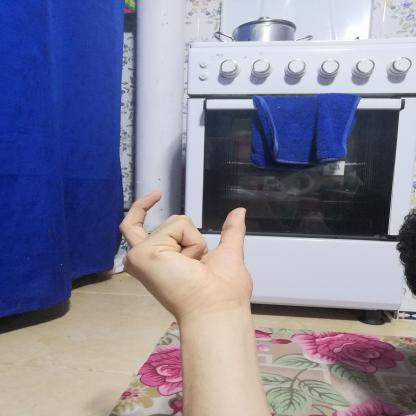NOON: (104, 184, 274, 330)
